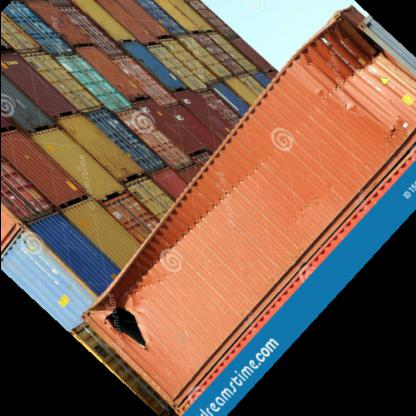Damage: (92, 294, 150, 358), (326, 24, 388, 76)
